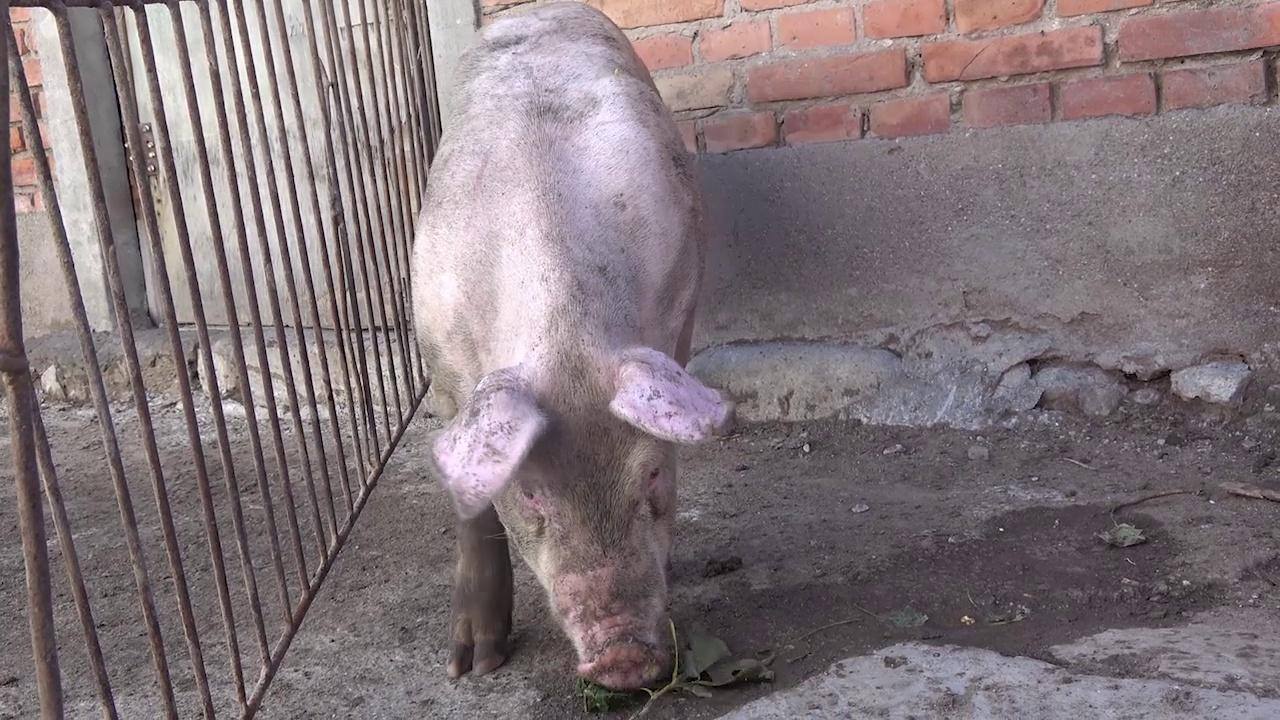Face: (417, 336, 757, 704)
